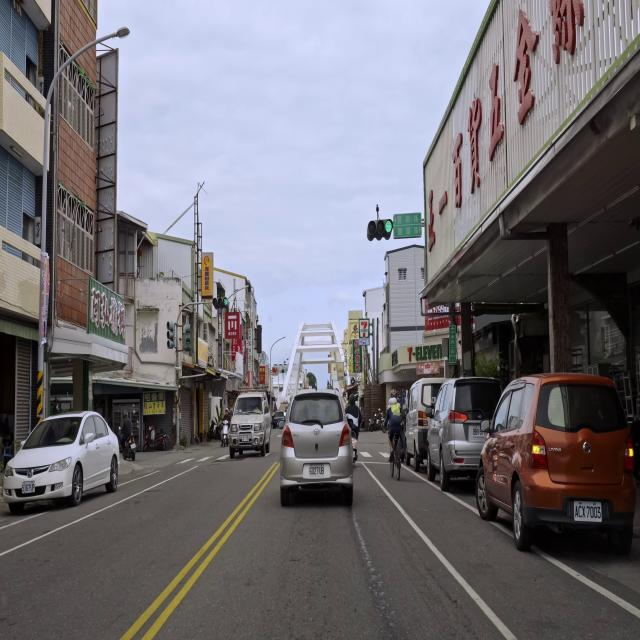green light: (367, 220, 393, 235), (212, 298, 228, 306)
